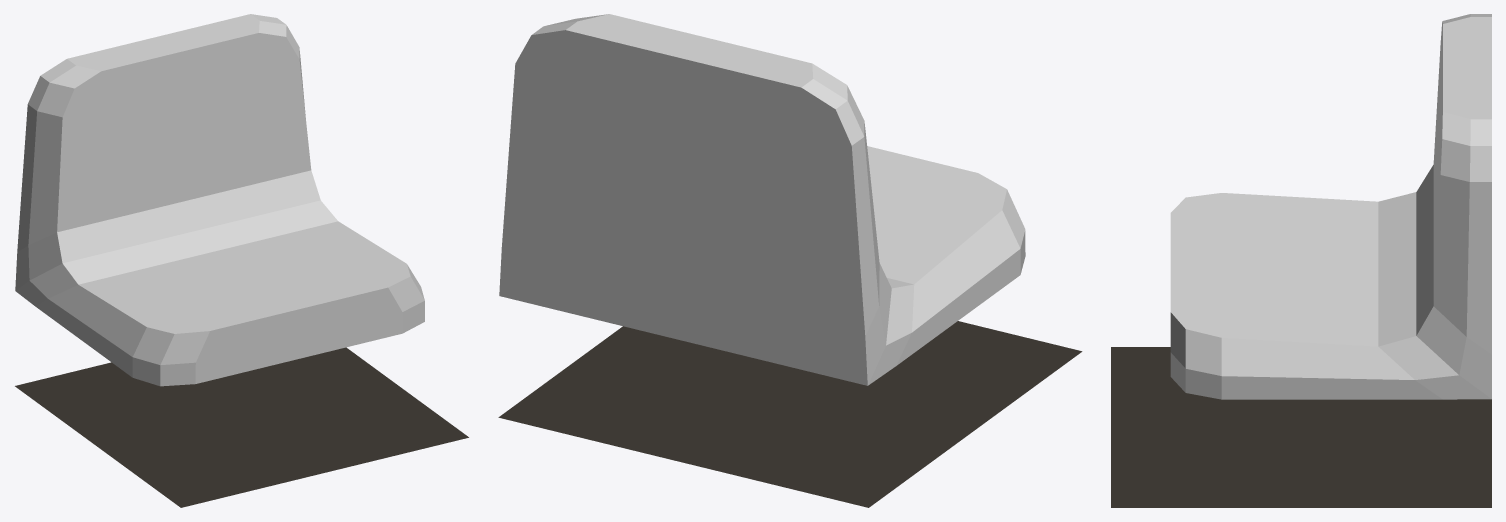
The model's file is Tile_Seat.fbx.
3 renders of one model, left to right at view 1: azimuth 30°, elevation 25°; view 2: azimuth 150°, elevation 25°; view 3: azimuth 270°, elevation 25°, orthographic. The views are drawn at different scales.
Visible parts, largest first — view 1: Tile_Seat; view 2: Tile_Seat; view 3: Tile_Seat.
Part boxes in pixels (box(x1,y1,x2,y2)): Tile_Seat: box(15, 14, 468, 507); Tile_Seat: box(498, 14, 1082, 507); Tile_Seat: box(1111, 14, 1491, 507).
Bounding box in the file's own units: 100 × 104 × 100.
